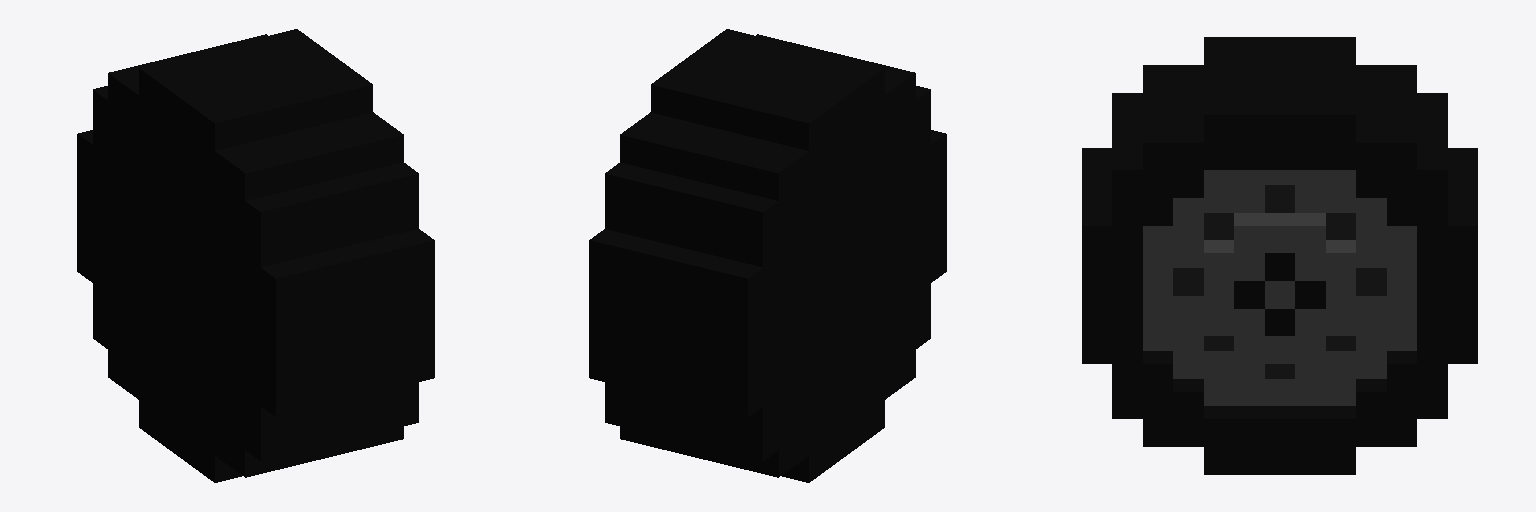
The picture shows the model from 3 angles: view 1: azimuth 30°, elevation 25°; view 2: azimuth 150°, elevation 25°; view 3: azimuth 270°, elevation 25°; orthographic projection.
Parts seen in each view (by area): view 1: wfr; view 2: wfr; view 3: wfr.
Part boxes in pixels (x1,y1,x2,y2): wfr: (77,29,434,482); wfr: (589,29,946,482); wfr: (1082,37,1477,474).
Size of the model in its own units: 0.6 by 1.3 by 1.3.
1 materials, 1 textured.